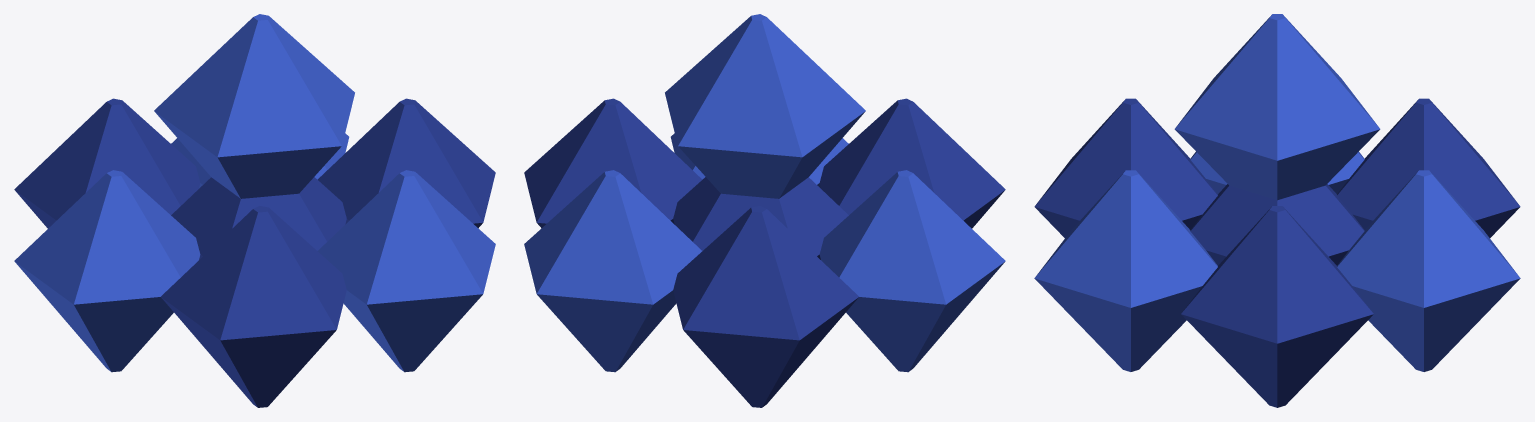
File: bushberries-crop.glb
The picture shows the model from 3 angles, left to right: view 1: azimuth 30°, elevation 25°; view 2: azimuth 150°, elevation 25°; view 3: azimuth 270°, elevation 25°; orthographic projection.
Visible parts, largest first — view 1: bushberries-crop; view 2: bushberries-crop; view 3: bushberries-crop.
Part boxes in pixels (<box>): bushberries-crop: <box>14,14,495,407</box>; bushberries-crop: <box>524,14,1005,407</box>; bushberries-crop: <box>1034,14,1520,407</box>.
Size of the model in its own units: 0.3085 by 0.206 by 0.2873.
1 material, 1 textured.
